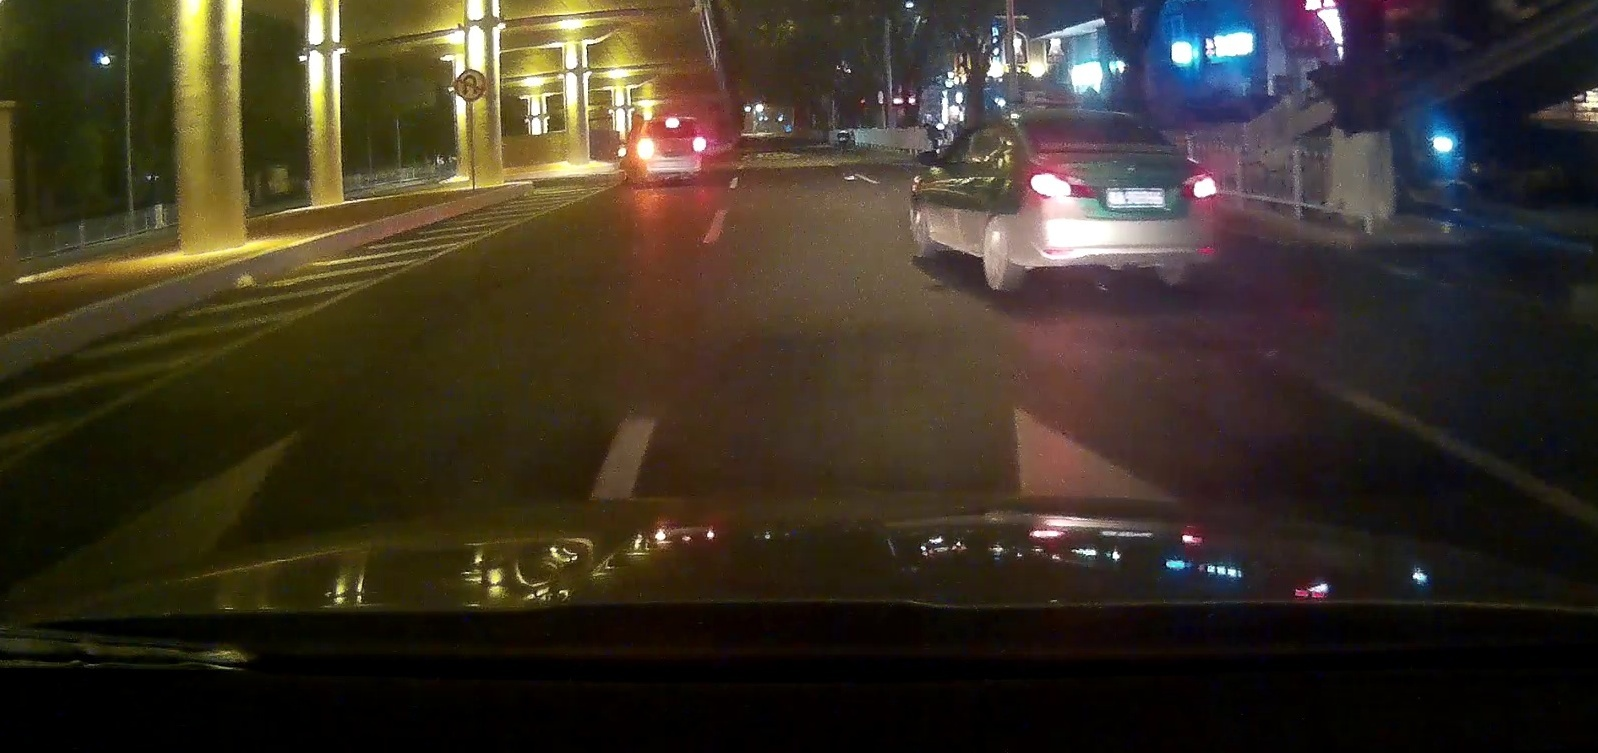L_light: (1027, 166, 1097, 199), (638, 138, 654, 158)
R_light: (1180, 164, 1218, 202), (693, 136, 703, 152)
T_light: (1076, 116, 1097, 124), (665, 118, 680, 127)
night-left: (637, 115, 704, 184)
night-no: (1016, 108, 1219, 293)
